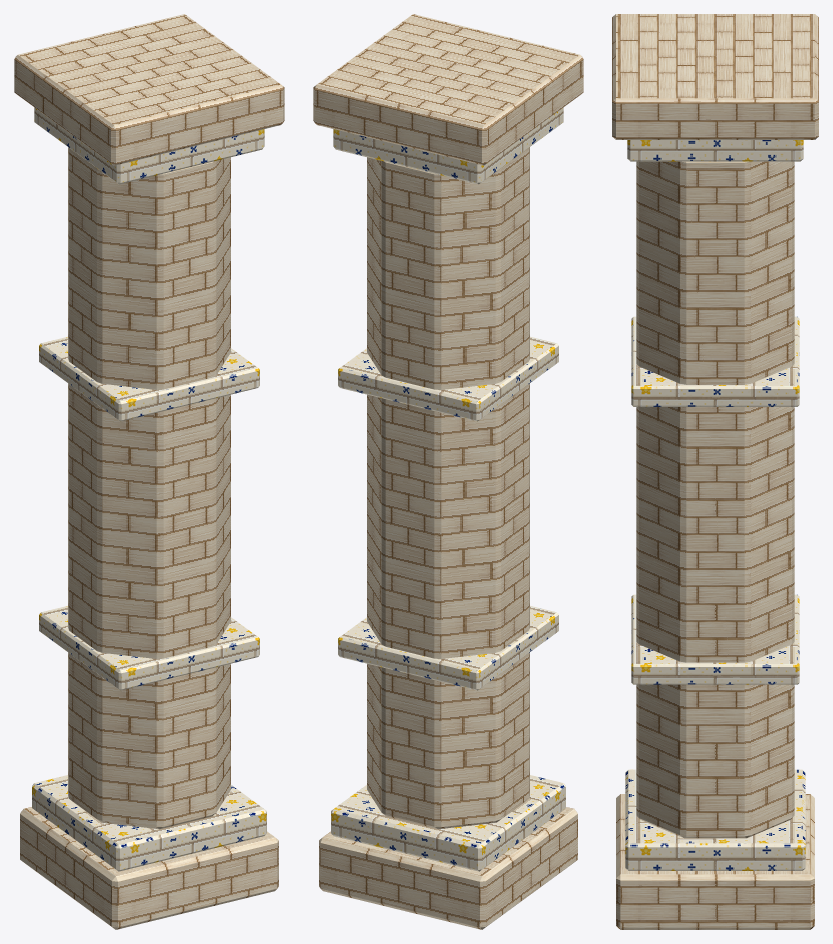
File: tower_pillar.glb
3 views of the same model, side by side, from view 1: azimuth 30°, elevation 25°; view 2: azimuth 150°, elevation 25°; view 3: azimuth 270°, elevation 25° (orthographic). The views are drawn at different scales.
Parts seen in each view (by area): view 1: TowerPillar; view 2: TowerPillar; view 3: TowerPillar.
Part boxes in pixels (x1,y1,x2,y2): TowerPillar: (14,14,284,929); TowerPillar: (313,14,583,929); TowerPillar: (612,14,818,929).
Bounding box in the file's own units: 2.7 × 12 × 2.7.
2 materials, 2 textured.
